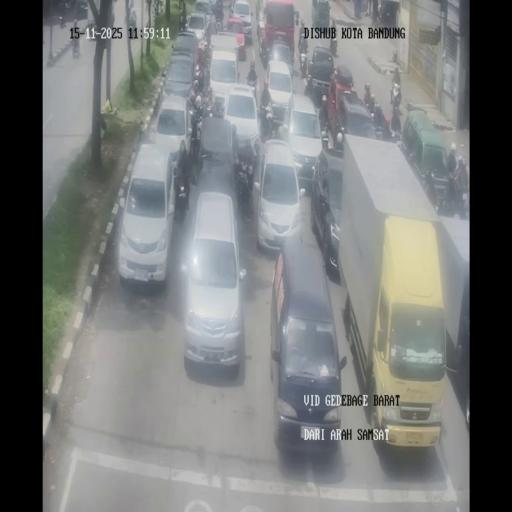3: (337, 138, 461, 448), (401, 110, 452, 208), (446, 270, 469, 438), (262, 0, 296, 63)
car: (270, 238, 343, 452), (180, 190, 246, 372), (118, 145, 178, 287), (281, 93, 323, 186), (311, 150, 341, 280), (194, 112, 238, 194), (153, 93, 194, 179), (262, 59, 295, 129), (207, 44, 242, 110), (335, 92, 376, 144), (162, 53, 197, 104), (306, 47, 336, 104), (225, 16, 248, 57), (185, 11, 209, 45), (311, 0, 331, 32), (75, 0, 88, 20)
truck: (235, 162, 252, 210), (175, 164, 190, 213), (372, 109, 390, 142), (402, 141, 418, 169), (199, 39, 212, 72), (246, 78, 259, 110), (298, 43, 309, 79), (188, 96, 203, 122), (257, 9, 266, 51), (390, 81, 401, 113), (193, 63, 205, 92), (71, 20, 80, 58), (202, 92, 215, 118), (320, 118, 330, 150), (390, 118, 402, 144), (459, 188, 469, 219), (329, 31, 338, 56), (178, 12, 188, 34), (212, 102, 225, 118), (215, 9, 223, 31), (290, 47, 296, 70), (376, 2, 382, 24), (228, 0, 236, 15), (59, 12, 66, 28)
